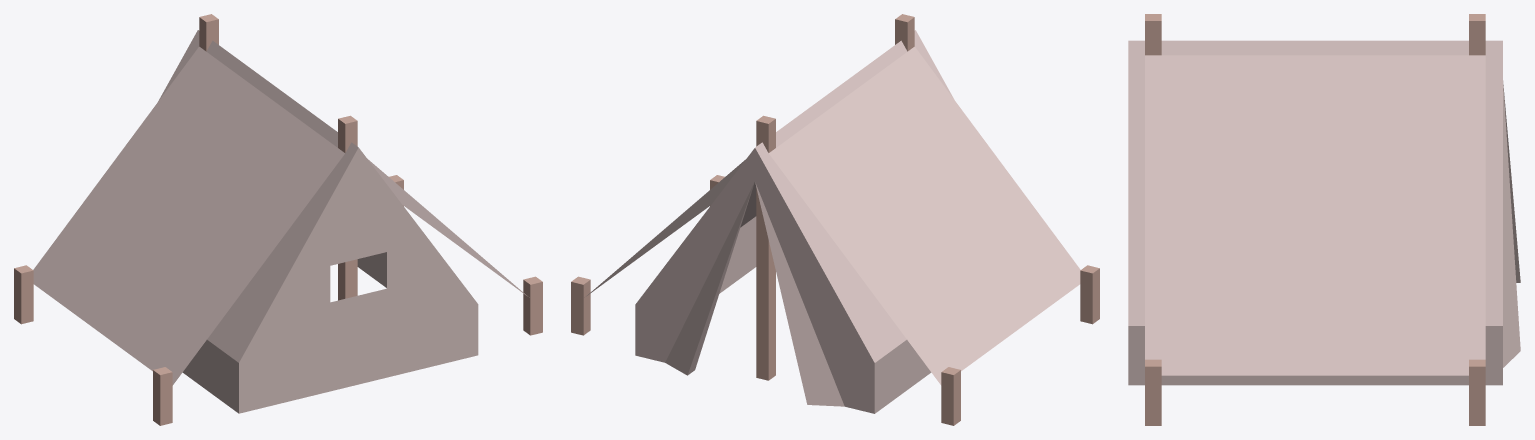
Rendered from tent.glb.
The picture shows the model from 3 angles, left to right: view 1: azimuth 30°, elevation 25°; view 2: azimuth 150°, elevation 25°; view 3: azimuth 270°, elevation 25°; orthographic projection. The views are drawn at different scales.
Visible parts, largest first — view 1: tent_detailedOpen; view 2: tent_detailedOpen; view 3: tent_detailedOpen.
Part boxes in pixels (bbox=[...]): tent_detailedOpen: bbox=[14, 14, 542, 425]; tent_detailedOpen: bbox=[571, 14, 1099, 425]; tent_detailedOpen: bbox=[1128, 14, 1520, 425].
Size of the model in its own units: 0.8749 by 0.5611 by 0.6664.
